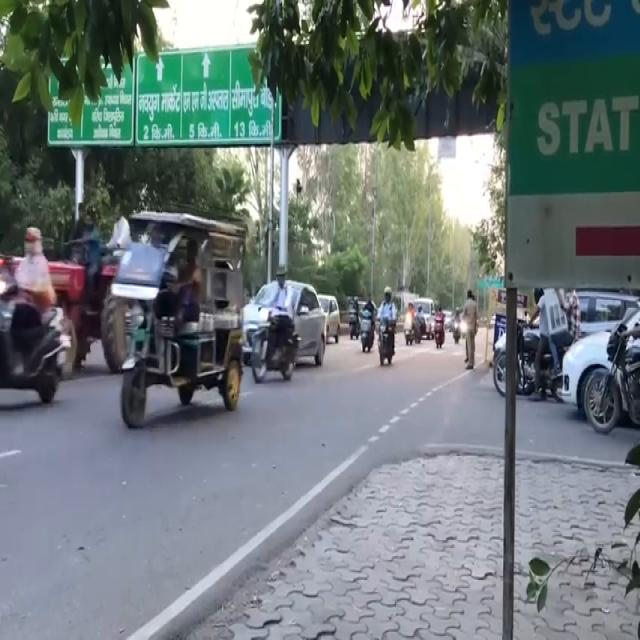MOTORCYCLE: (0, 265, 63, 416), (252, 299, 297, 379), (375, 312, 394, 367), (360, 308, 371, 349)
